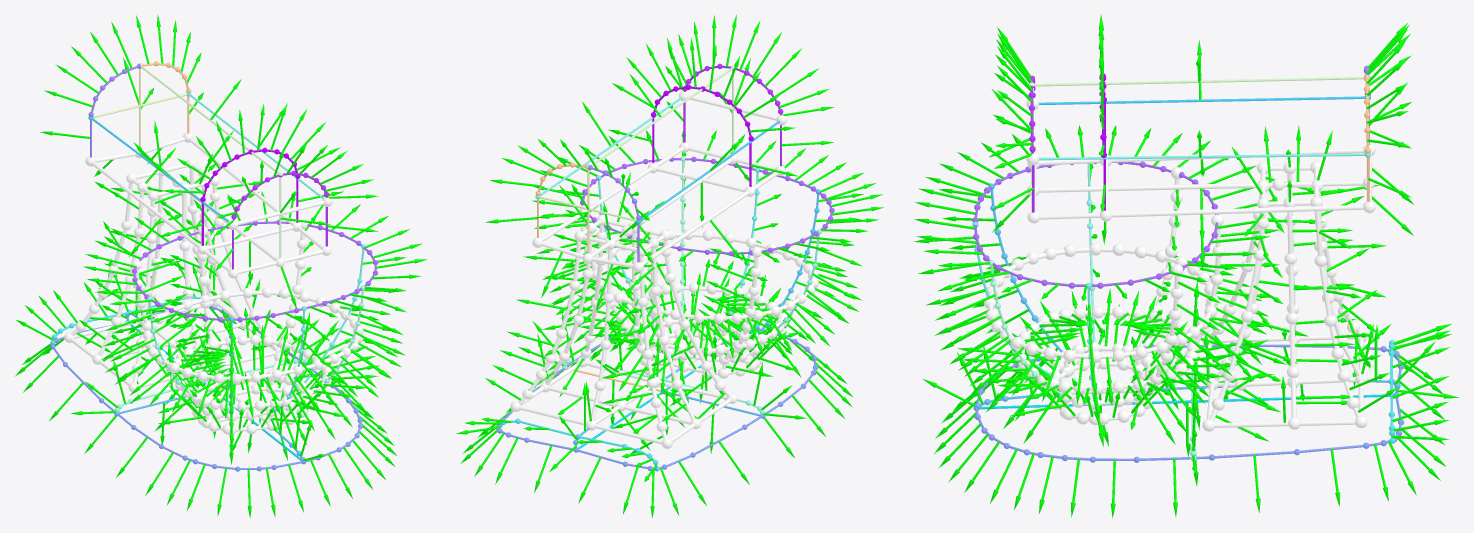
The model's file is t2f_blender.gltf.
3 views of the same model, side by side, from view 1: azimuth 30°, elevation 25°; view 2: azimuth 150°, elevation 25°; view 3: azimuth 270°, elevation 25° (orthographic). The views are drawn at different scales.
Size of the model in its own units: 0.6599 by 0.7512 by 0.8629.
